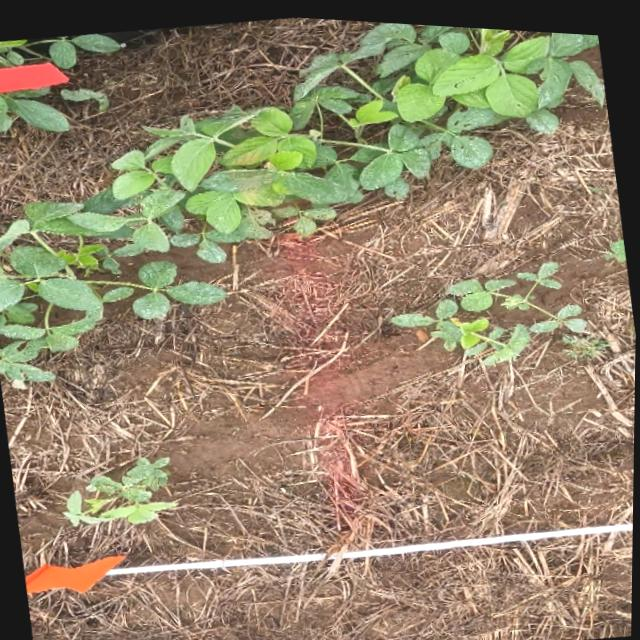grassy_weed: (561, 328, 609, 352)
soy_plant: (0, 18, 602, 381), (391, 255, 586, 359), (65, 455, 177, 525), (0, 33, 120, 68), (0, 86, 68, 131), (59, 88, 106, 108), (605, 232, 627, 254)
